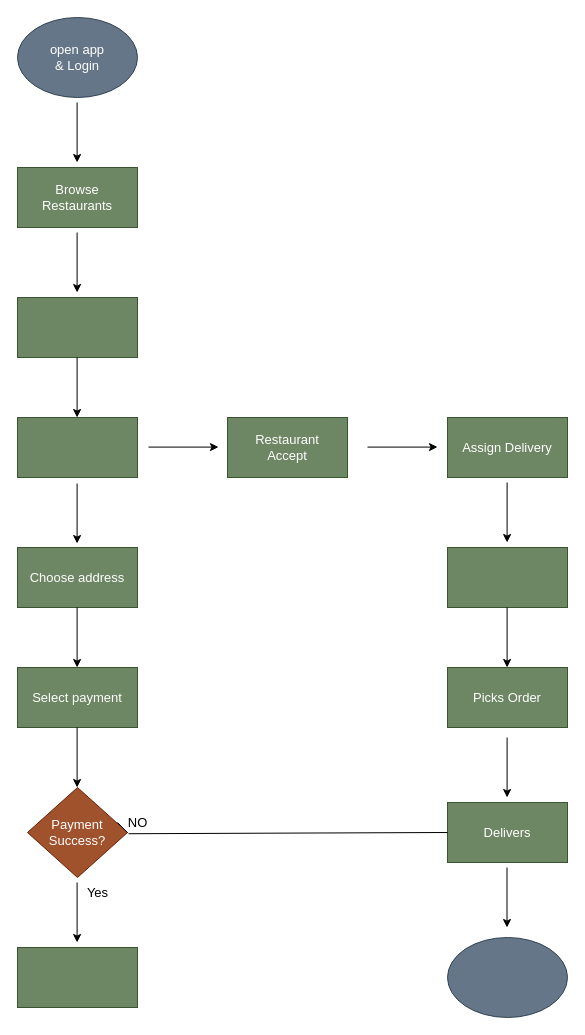
The diagram is 585 pixels wide and 1035 high, and some of its shapes have lost their labels. Each missing label, with the centre of its shape:
add to Cart: the point at 77,447
Delivery Agent: the point at 507,577
Order Done: the point at 507,977
Order Placed: the point at 77,977
Select Items: the point at 77,327
